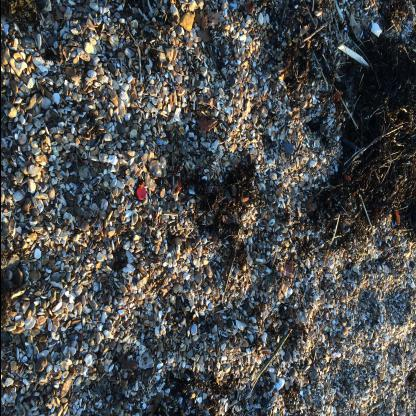plastik: (136, 188, 146, 202)
